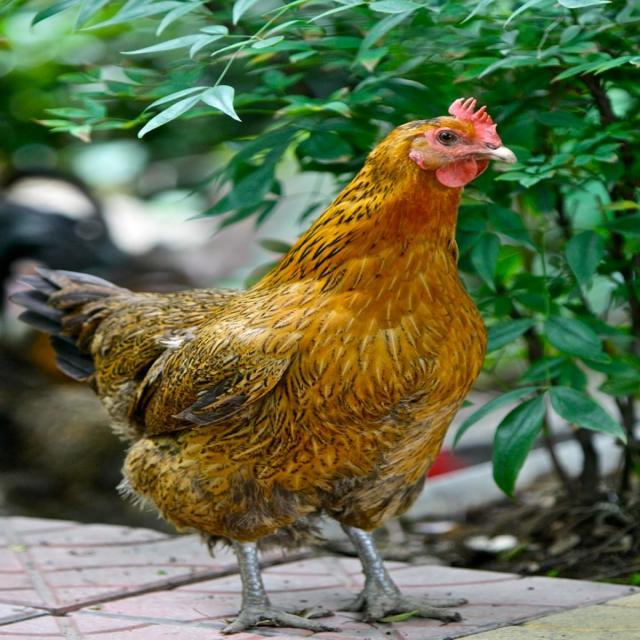Chicken: (8, 97, 517, 634)
